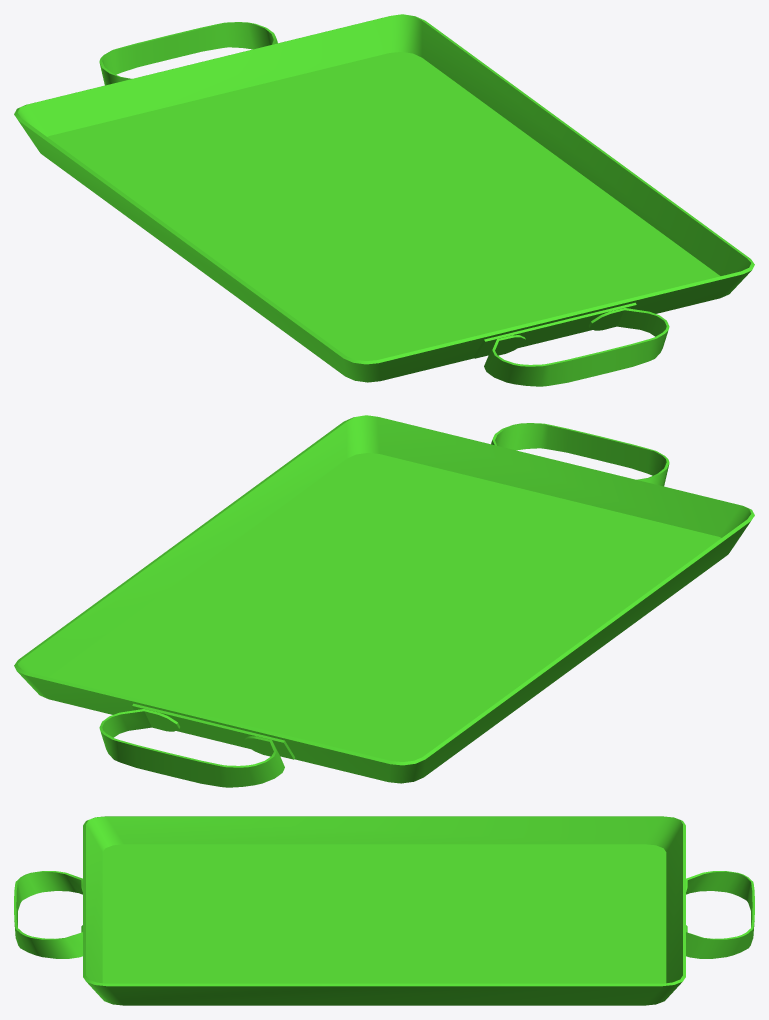
File: plate5.fbx
3 views of the same model, one above another, from view 1: azimuth 30°, elevation 25°; view 2: azimuth 150°, elevation 25°; view 3: azimuth 270°, elevation 25° (orthographic). The views are drawn at different scales.
Parts seen in each view (by area): view 1: Plane_Plate_0; view 2: Plane_Plate_0; view 3: Plane_Plate_0.
Boxes of the visible parts, x1,y1,x2,y2 form: Plane_Plate_0: (14,14,754,386); Plane_Plate_0: (14,415,754,787); Plane_Plate_0: (14,816,754,1005).
Size of the model in its own units: 108 by 7.76 by 199.
